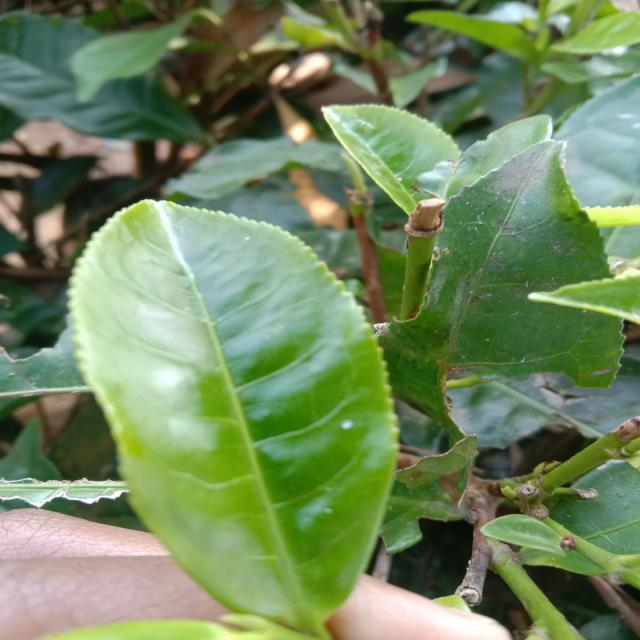Category B 2-4 days: (56, 183, 405, 635)
